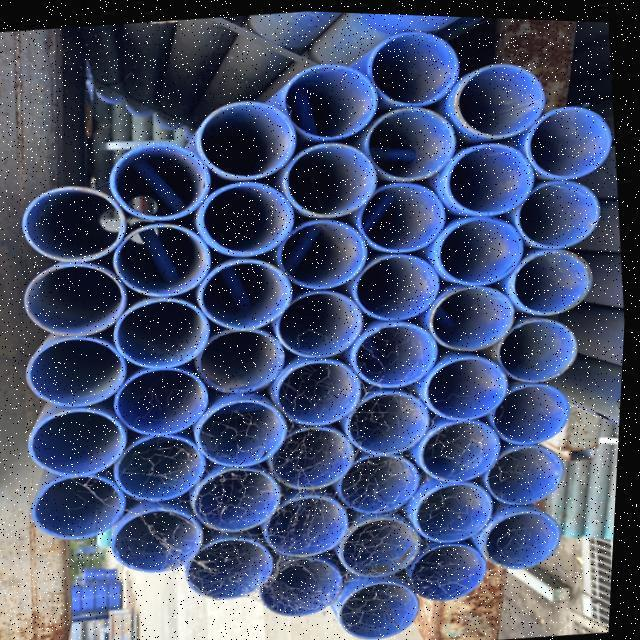pipe: (27, 256, 129, 340), (112, 137, 214, 220), (24, 183, 128, 264), (286, 53, 382, 140), (199, 96, 299, 177), (32, 335, 133, 410), (40, 464, 134, 544), (285, 139, 378, 216), (370, 28, 464, 103), (116, 297, 215, 368), (118, 361, 214, 434), (36, 408, 138, 476), (199, 393, 290, 469), (201, 179, 293, 254), (116, 222, 213, 293), (361, 179, 448, 258), (369, 104, 459, 178), (202, 259, 295, 330), (447, 139, 537, 212), (527, 101, 613, 175), (282, 216, 369, 289), (461, 61, 549, 133), (118, 506, 211, 574), (272, 416, 364, 484), (200, 327, 290, 395), (359, 315, 445, 386), (280, 286, 367, 356), (196, 466, 286, 533), (357, 251, 447, 318), (280, 351, 364, 422), (441, 211, 525, 281), (119, 434, 207, 500), (193, 535, 282, 600), (427, 351, 514, 417), (434, 279, 520, 345), (521, 175, 602, 245), (501, 312, 581, 381), (515, 245, 596, 313), (423, 414, 507, 478), (354, 389, 436, 453), (347, 513, 431, 575), (270, 492, 355, 553), (416, 476, 498, 539), (489, 441, 568, 505), (344, 452, 426, 513), (494, 378, 576, 439), (343, 580, 430, 637), (266, 555, 349, 614), (490, 505, 568, 566), (412, 539, 494, 596)
